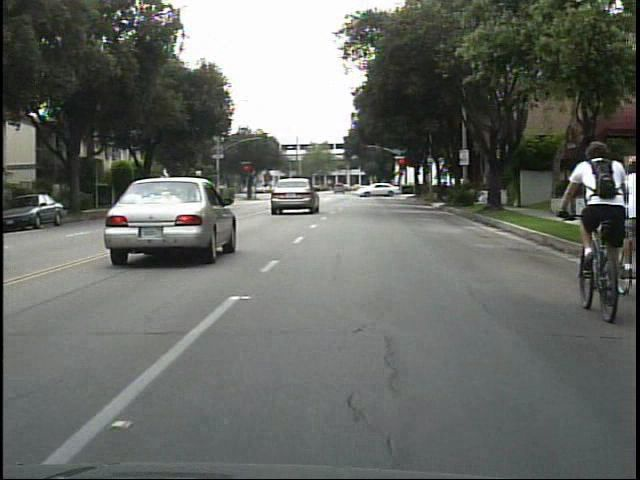person: (553, 132, 635, 315)
